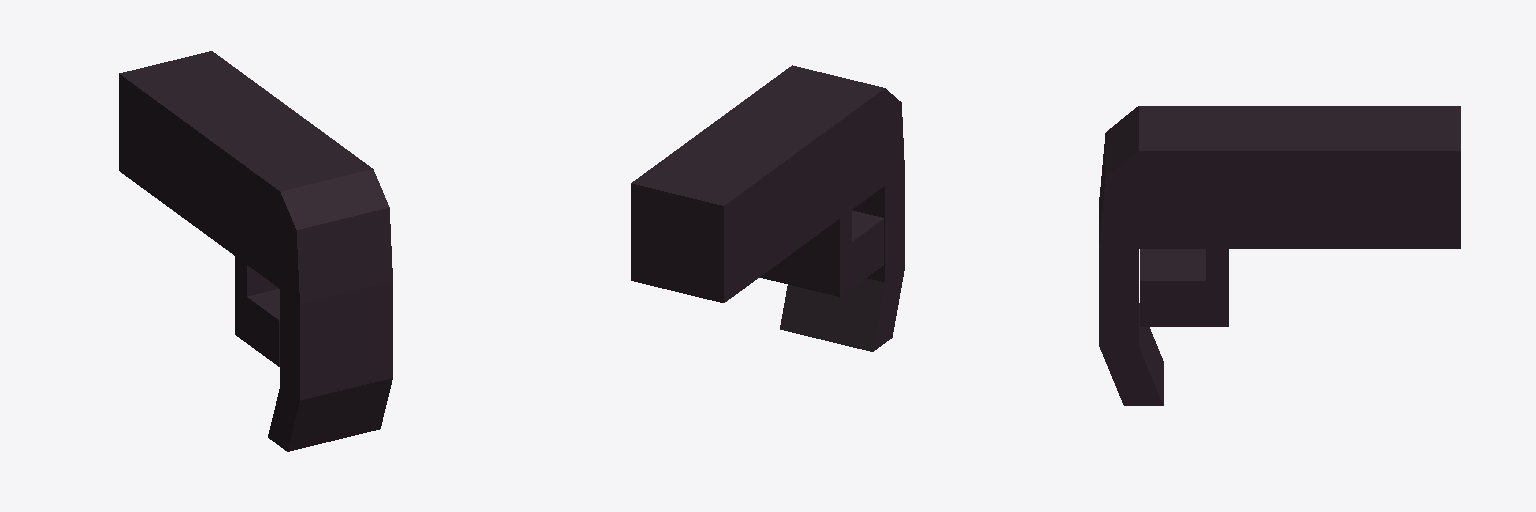
The model's file is arme_000122.obj.
3 renders of one model, left to right at view 1: azimuth 30°, elevation 25°; view 2: azimuth 150°, elevation 25°; view 3: azimuth 270°, elevation 25°, orthographic.
Parts seen in each view (by area): view 1: Cube.046_Cube.010; view 2: Cube.046_Cube.010; view 3: Cube.046_Cube.010.
Boxes of the visible parts, <box> form: Cube.046_Cube.010: <box>119,51,392,451</box>; Cube.046_Cube.010: <box>631,65,904,351</box>; Cube.046_Cube.010: <box>1099,106,1460,405</box>.
Bounding box in the file's own units: 221 × 577 × 742.